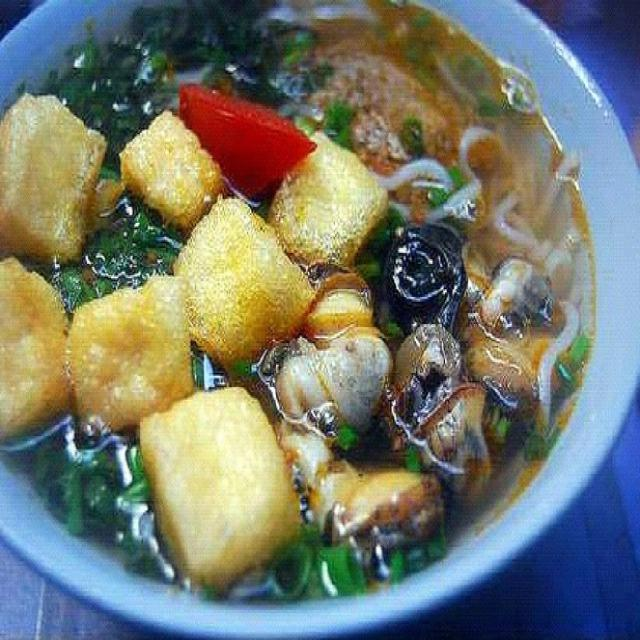面条主食: (9, 8, 613, 623)
